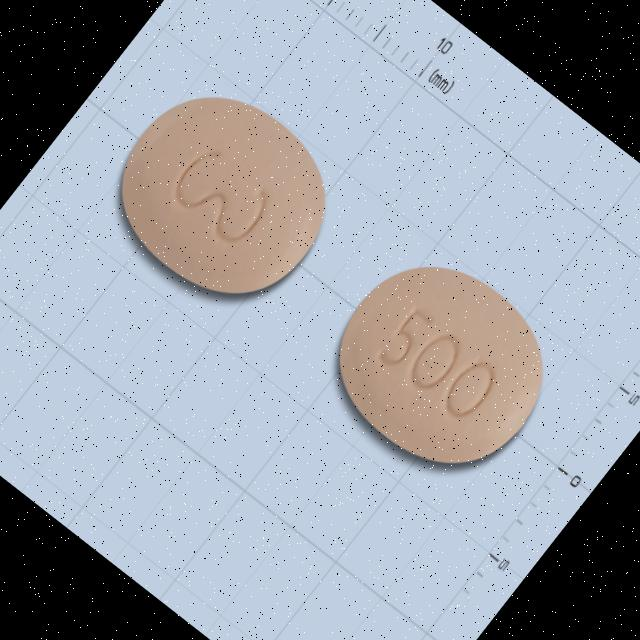Withus Levofloxacin Tab: (85, 59, 362, 332), (304, 228, 580, 501)
